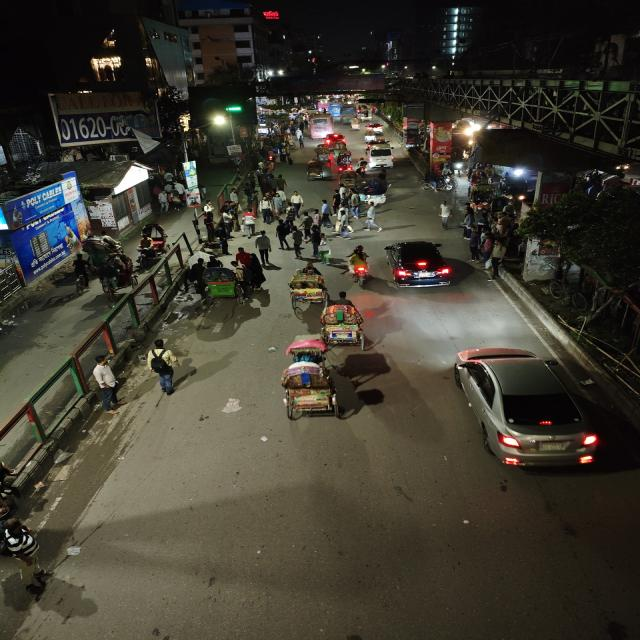bicycle: (60, 256, 94, 296)
bus: (306, 112, 334, 139)
car: (437, 342, 612, 474), (382, 237, 460, 293), (366, 143, 396, 169), (322, 132, 348, 144), (364, 122, 385, 135)
motorcycle: (344, 246, 372, 288), (417, 173, 457, 195), (355, 158, 369, 176)
pedestrian: (90, 357, 124, 411), (238, 246, 268, 292), (481, 237, 510, 279), (148, 358, 177, 396), (274, 222, 302, 254), (359, 201, 381, 231), (306, 225, 327, 256), (287, 223, 306, 257), (254, 230, 273, 262), (215, 222, 232, 254), (240, 207, 258, 237), (435, 200, 453, 230), (275, 219, 291, 250), (317, 240, 335, 264), (261, 200, 276, 224), (337, 218, 355, 238), (332, 189, 345, 214), (289, 189, 304, 209), (274, 174, 288, 192), (318, 198, 332, 216)
rickshaw: (277, 348, 351, 424), (318, 291, 370, 349), (284, 266, 327, 312), (97, 251, 135, 303), (202, 264, 241, 303), (360, 177, 392, 207), (138, 222, 170, 252), (304, 160, 331, 182), (336, 153, 352, 173), (315, 146, 333, 162), (349, 118, 361, 132), (333, 144, 346, 156)
